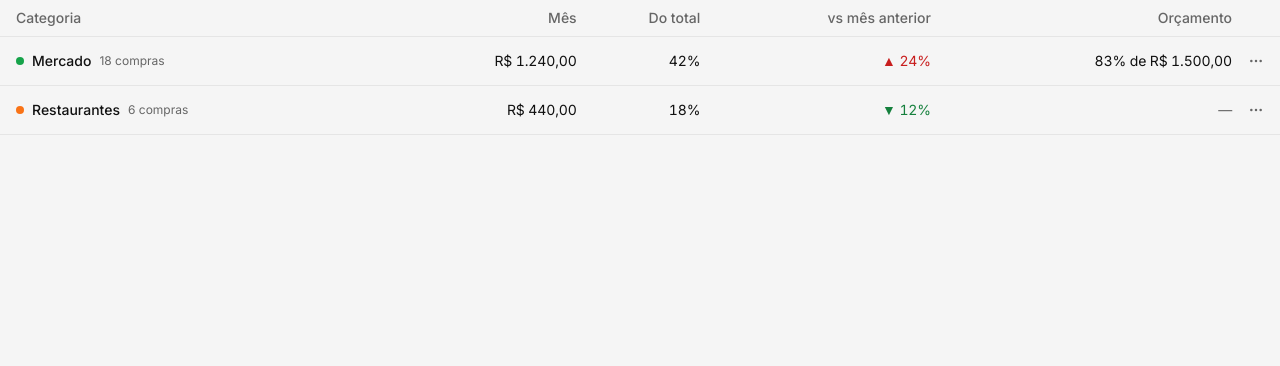
Scenario: CategoryList › lists the categories as rows and opens one to show where the money went
Expected: the row "Mercado 18 compras R$ 1.240,00 42% ▲ 24% 83% de R$ 1.500,00" is shown, [0,37,1279,86]
Click the button "Mercado 18 compras" at (90, 61), box [16,51,165,71]
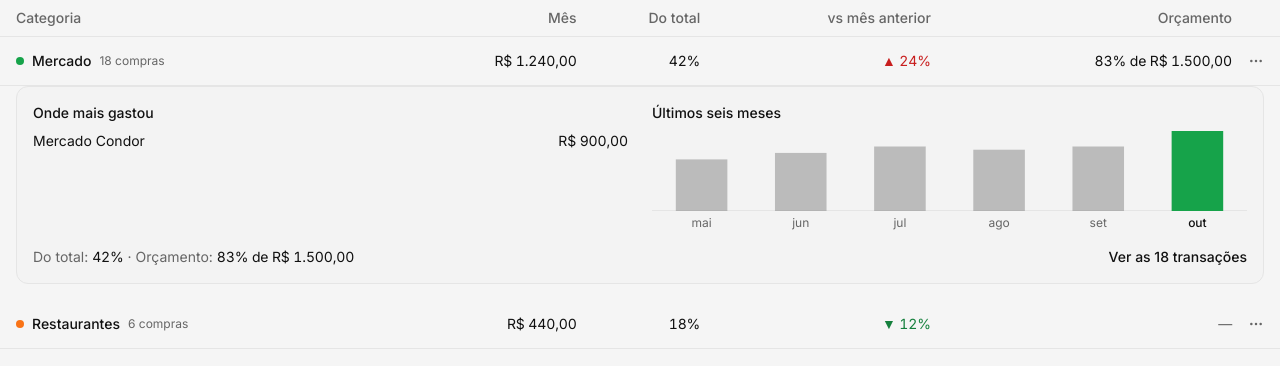
Now the text "Mercado Condor" is shown, box [33,131,145,151]
